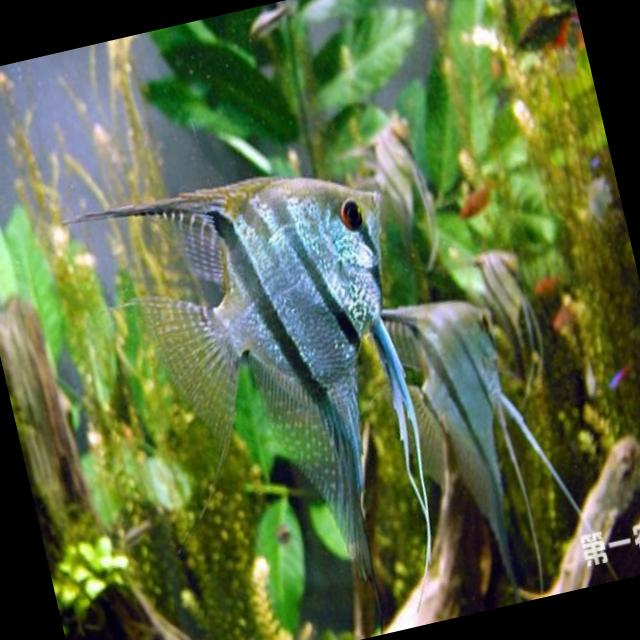AngelFish: (58, 145, 456, 616), (388, 286, 545, 556), (350, 108, 442, 264), (474, 236, 544, 363)
